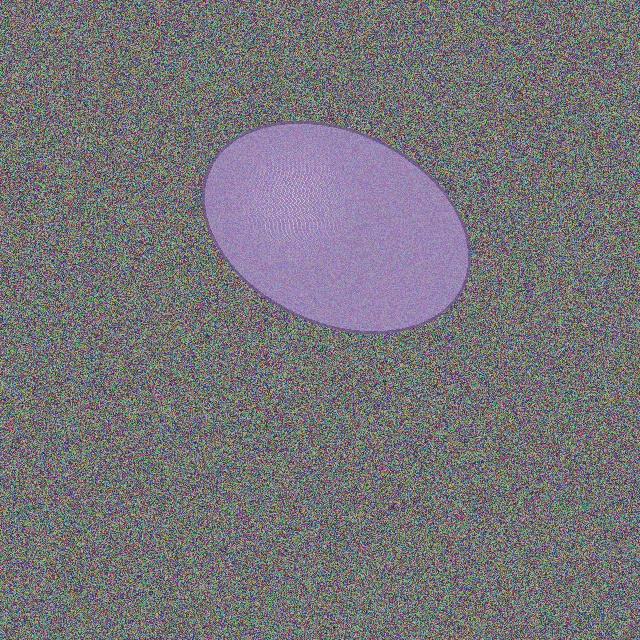lens: (203, 122, 469, 332)
